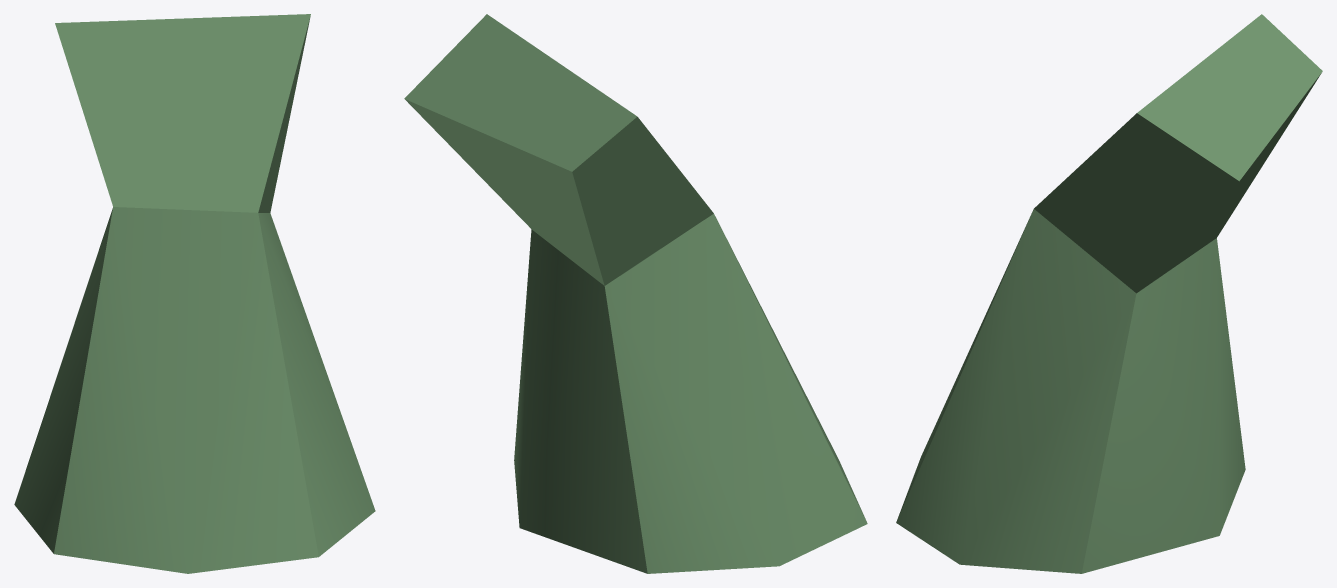
The model's file is LeftFrontLeg.fbx.
3 renders of one model, left to right at view 1: azimuth 30°, elevation 25°; view 2: azimuth 150°, elevation 25°; view 3: azimuth 270°, elevation 25°, orthographic. The views are drawn at different scales.
Parts seen in each view (by area): view 1: RightFront; view 2: RightFront; view 3: RightFront.
Boxes of the visible parts, box(x1,y1,x2,y2) form: RightFront: box(14, 14, 375, 573); RightFront: box(404, 14, 867, 573); RightFront: box(896, 14, 1322, 573).
Size of the model in its own units: 0.4071 by 0.5083 by 0.4233.
